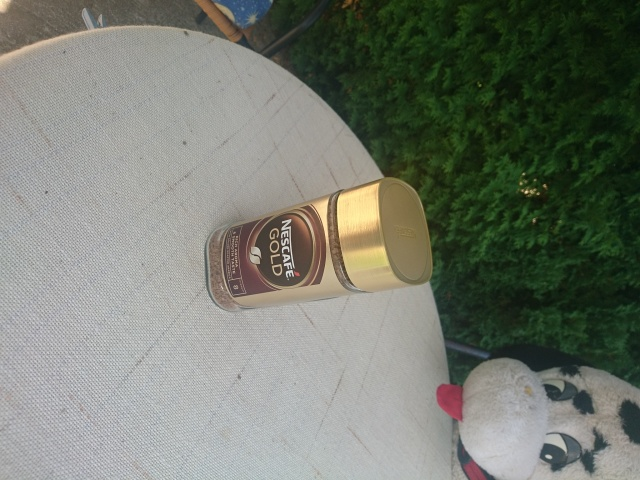Nescafe Gold 225g: (201, 174, 436, 316)
